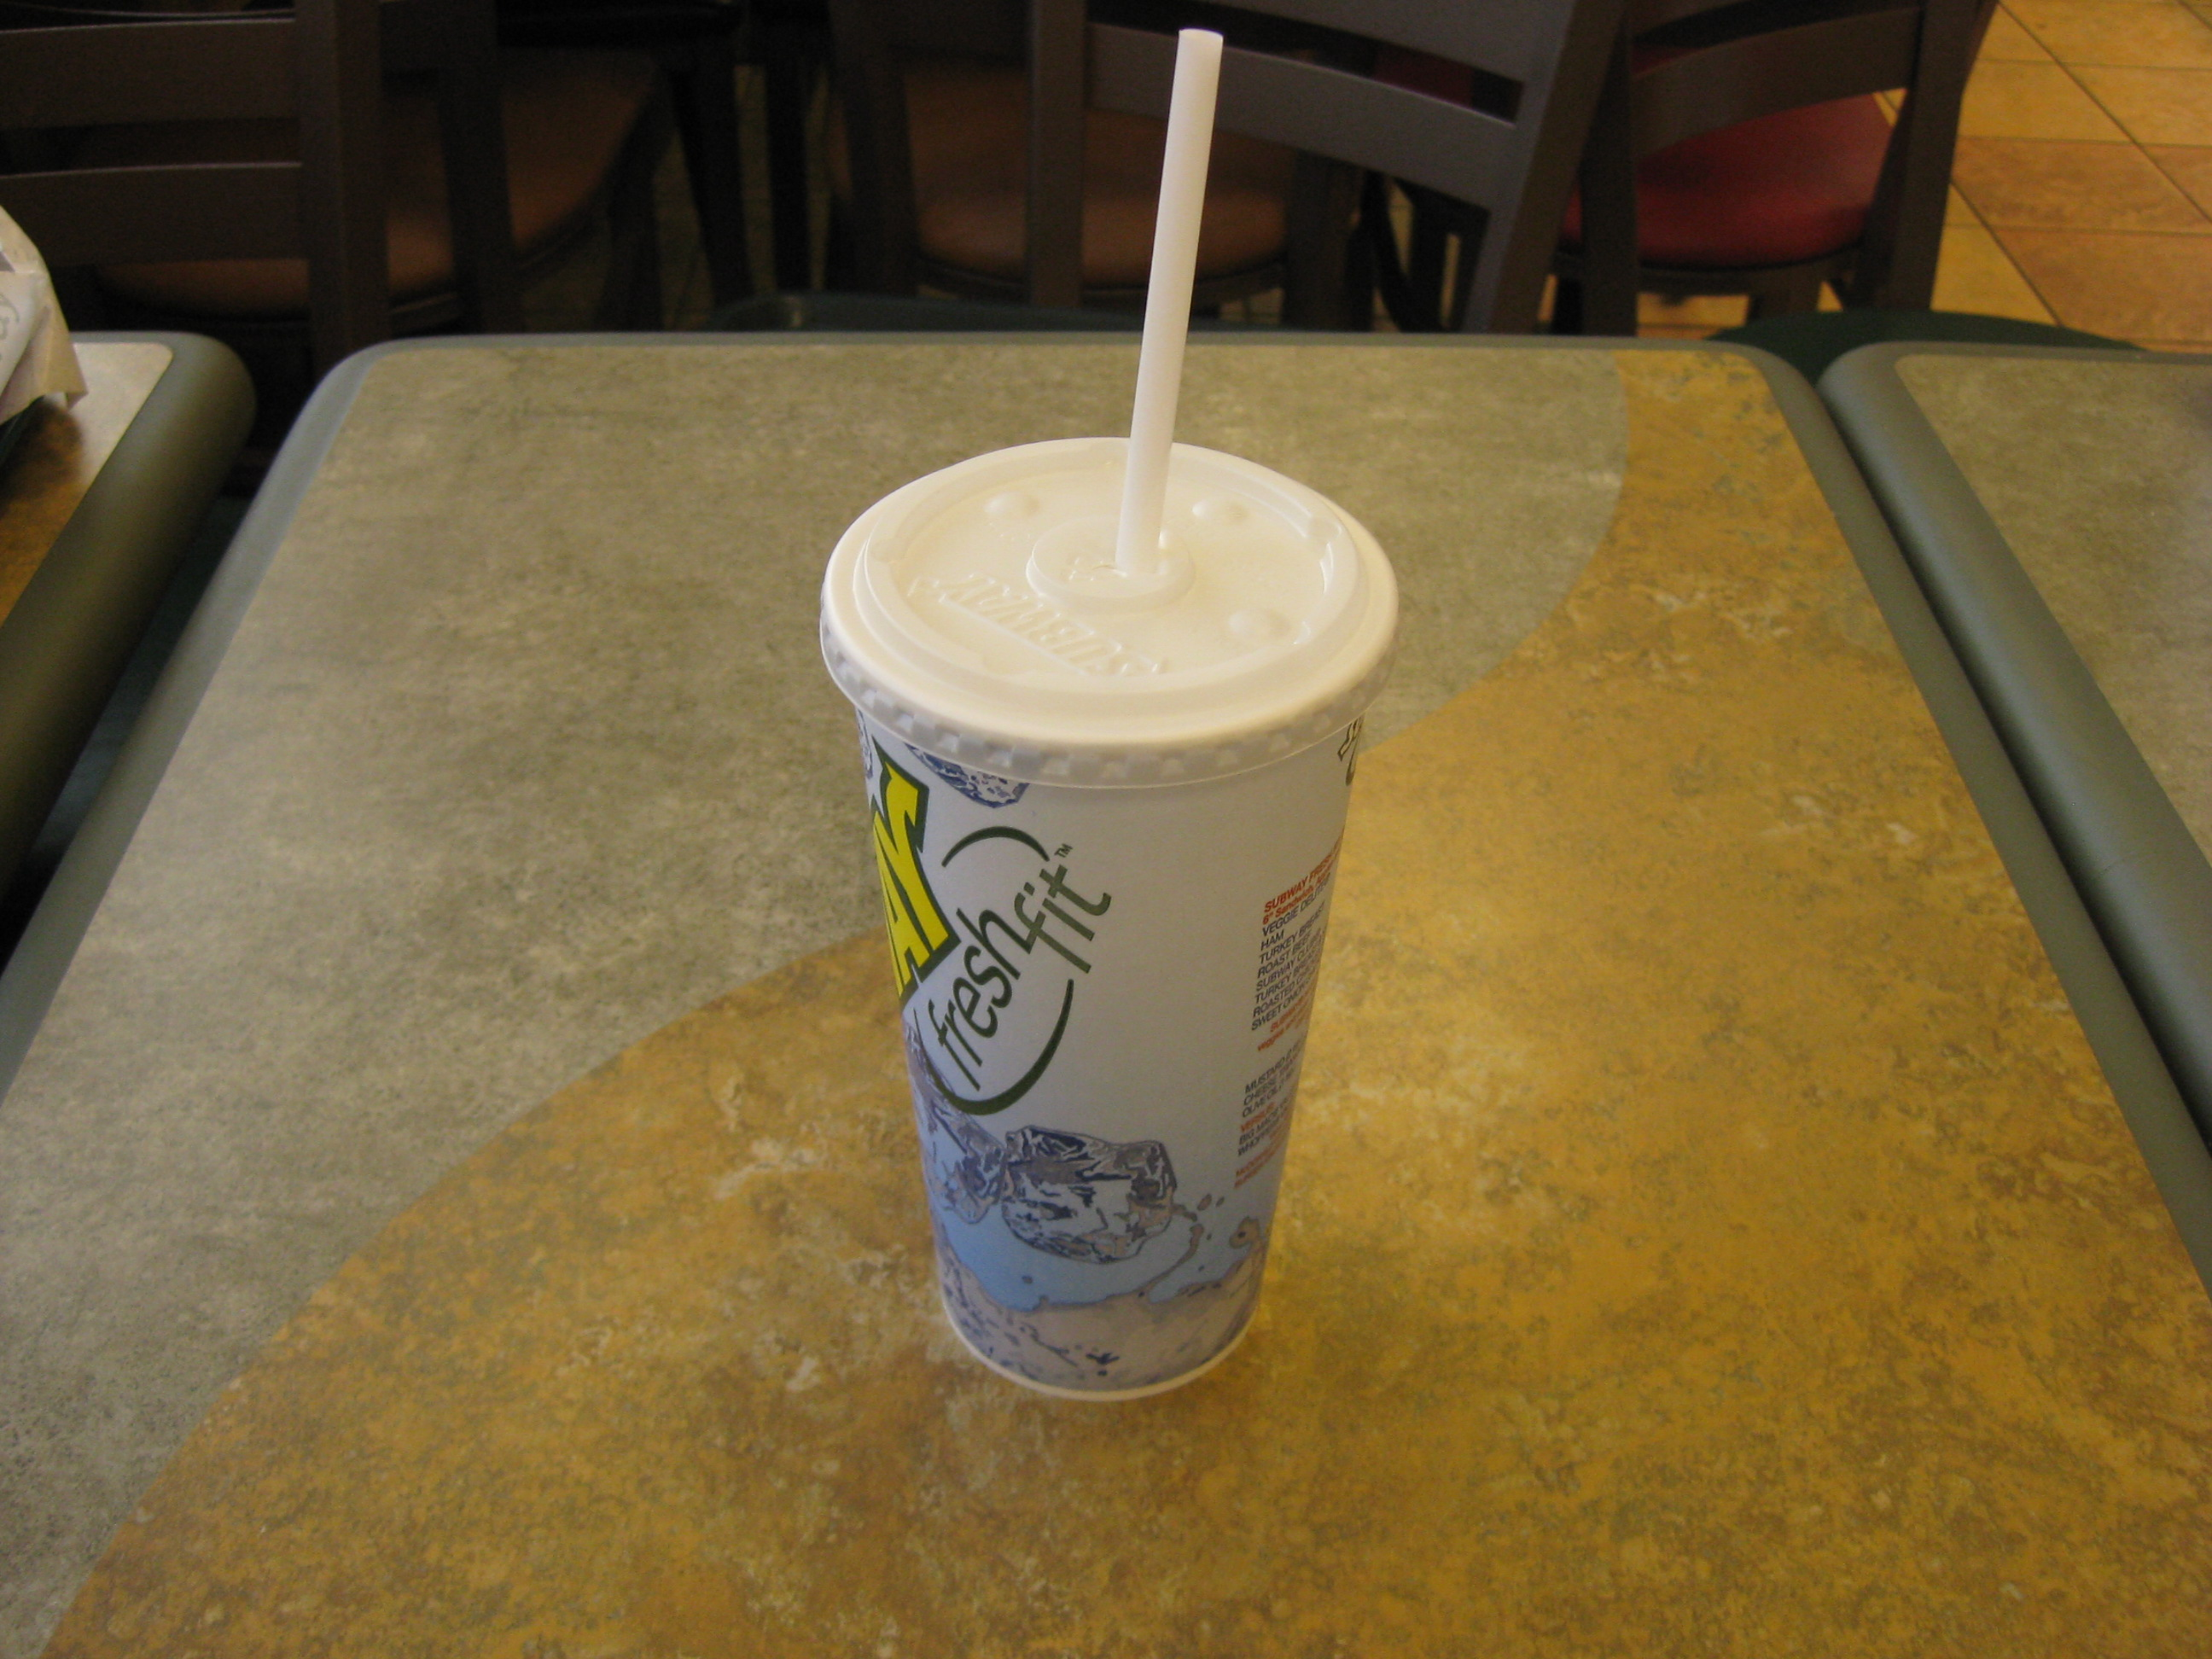drink: (806, 37, 1404, 1412)
